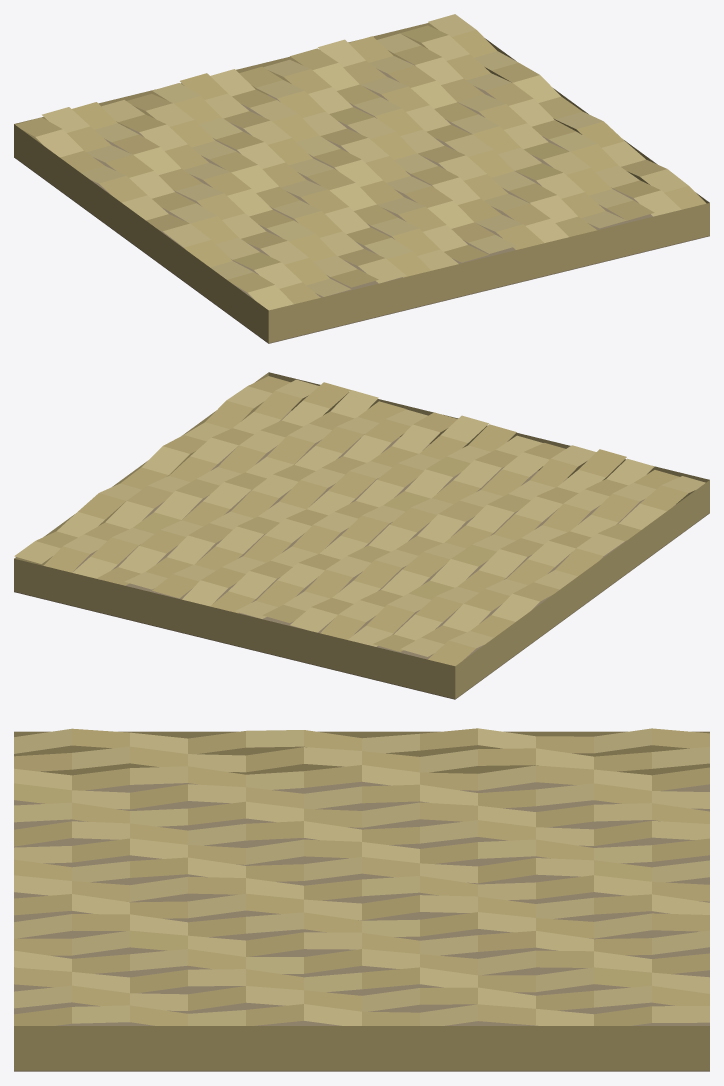
Rendered from crop_wheat.glb.
3 renders of one model, top to bottom at view 1: azimuth 30°, elevation 25°; view 2: azimuth 150°, elevation 25°; view 3: azimuth 270°, elevation 25°, orthographic. The views are drawn at different scales.
Parts seen in each view (by area): view 1: crop_wheat; view 2: crop_wheat; view 3: crop_wheat.
Boxes of the visible parts, <box> form: crop_wheat: <box>14,14,709,343</box>; crop_wheat: <box>14,372,709,699</box>; crop_wheat: <box>14,728,709,1071</box>.
Bounding box in the file's own units: 12 × 0.97 × 12.
